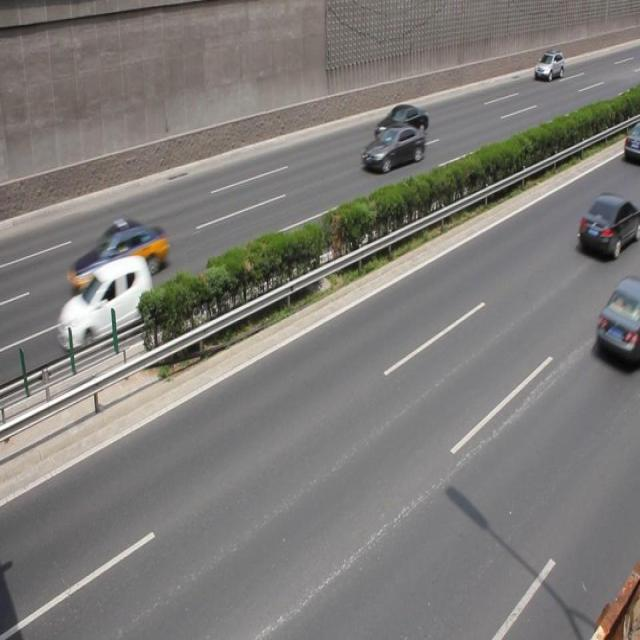car: (54, 258, 156, 354), (66, 218, 168, 296), (593, 277, 640, 370), (576, 195, 632, 258), (360, 124, 424, 175), (374, 104, 428, 142), (532, 52, 563, 81), (622, 126, 640, 160)
